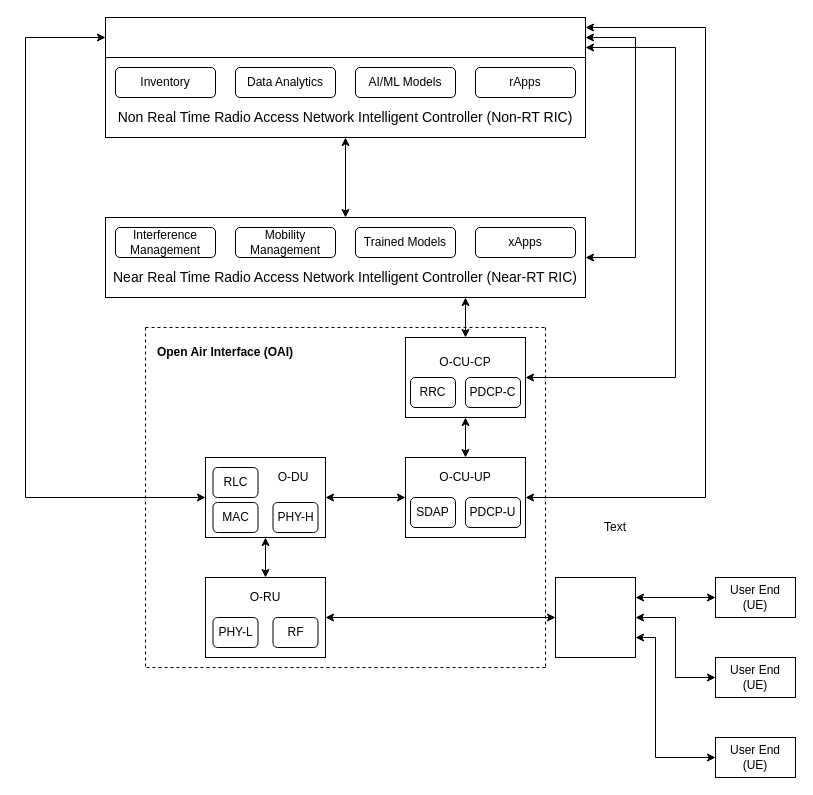
This 813x795 diagram has some shape labels left out. The centre of each missing label's shape, as x and y in pixels:
Antenna: (595,617)
Service Management and Orchestration (SMO): (345,37)
